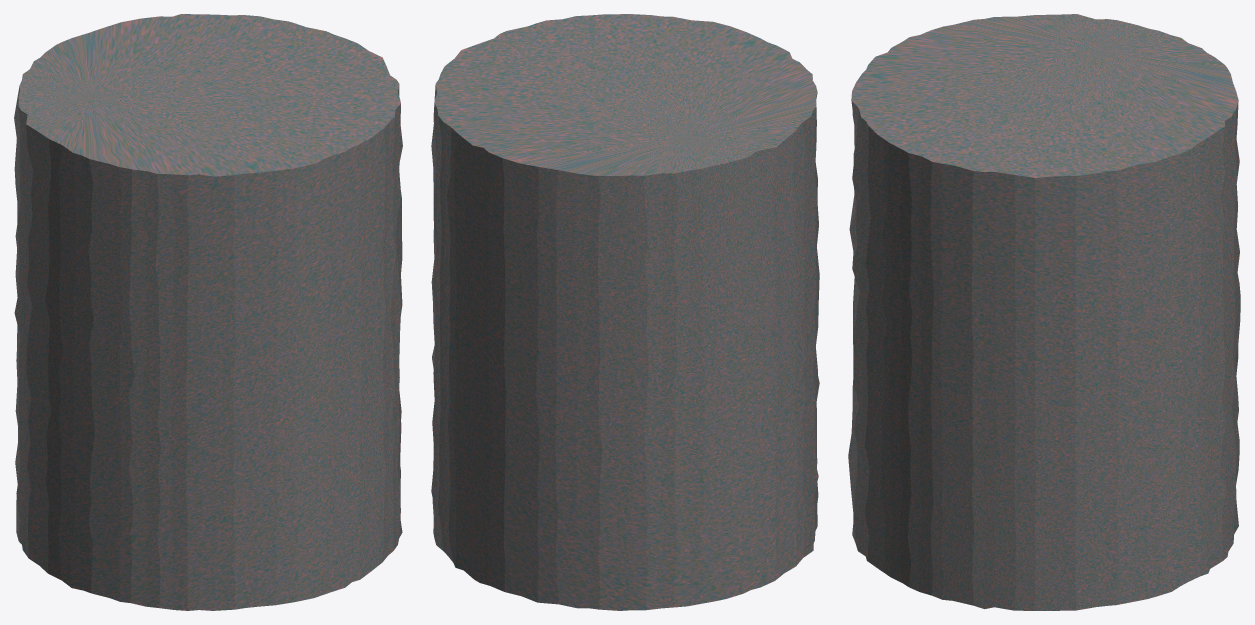
The model's file is barrel_69.dae.
3 views of the same model, side by side, from view 1: azimuth 30°, elevation 25°; view 2: azimuth 150°, elevation 25°; view 3: azimuth 270°, elevation 25° (orthographic).
Parts seen in each view (by area): view 1: Cylinder; view 2: Cylinder; view 3: Cylinder.
Boxes of the visible parts, x1=… form: Cylinder: x1=14, y1=14, x2=402, y2=610; Cylinder: x1=431, y1=14, x2=819, y2=610; Cylinder: x1=848, y1=14, x2=1240, y2=610.
Size of the model in its own units: 0.8165 by 0.8182 by 1.
Materials: 1 (1 with a texture image).
